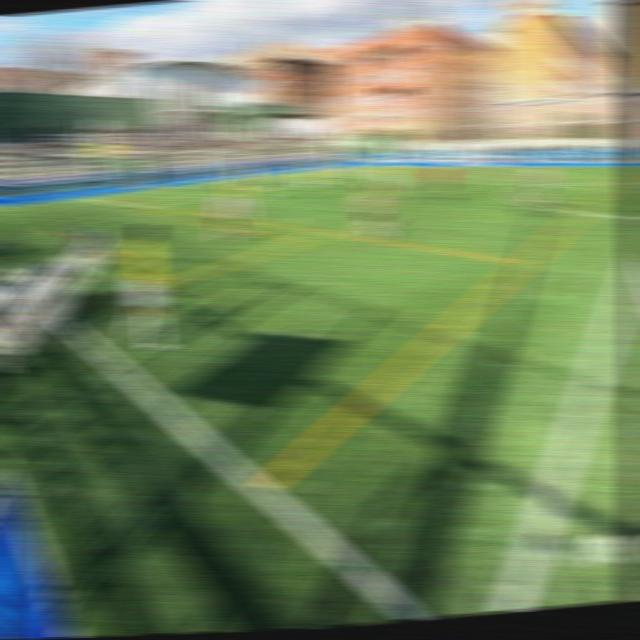bigarea_bottom_inner: (127, 200, 151, 216)
bigarea_bottom_outter: (68, 191, 94, 204)
bigarea_top_outter: (312, 165, 330, 173)
bottom_arc_area_intersection: (243, 184, 265, 195)
smallarea_bottom_inner: (176, 181, 198, 195)
smallarea_bottom_outter: (158, 181, 177, 190)
smallarea_top_inner: (279, 172, 297, 178)
smallarea_top_outter: (259, 172, 277, 178)
